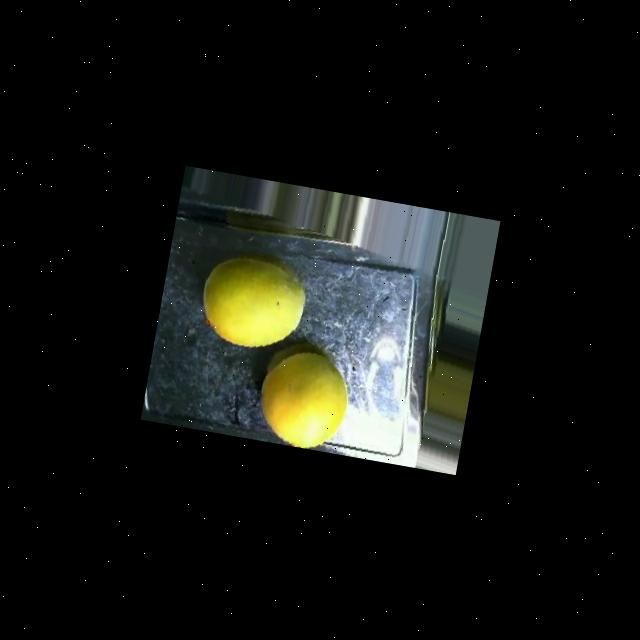Mango: (194, 248, 310, 356), (252, 344, 354, 454)
